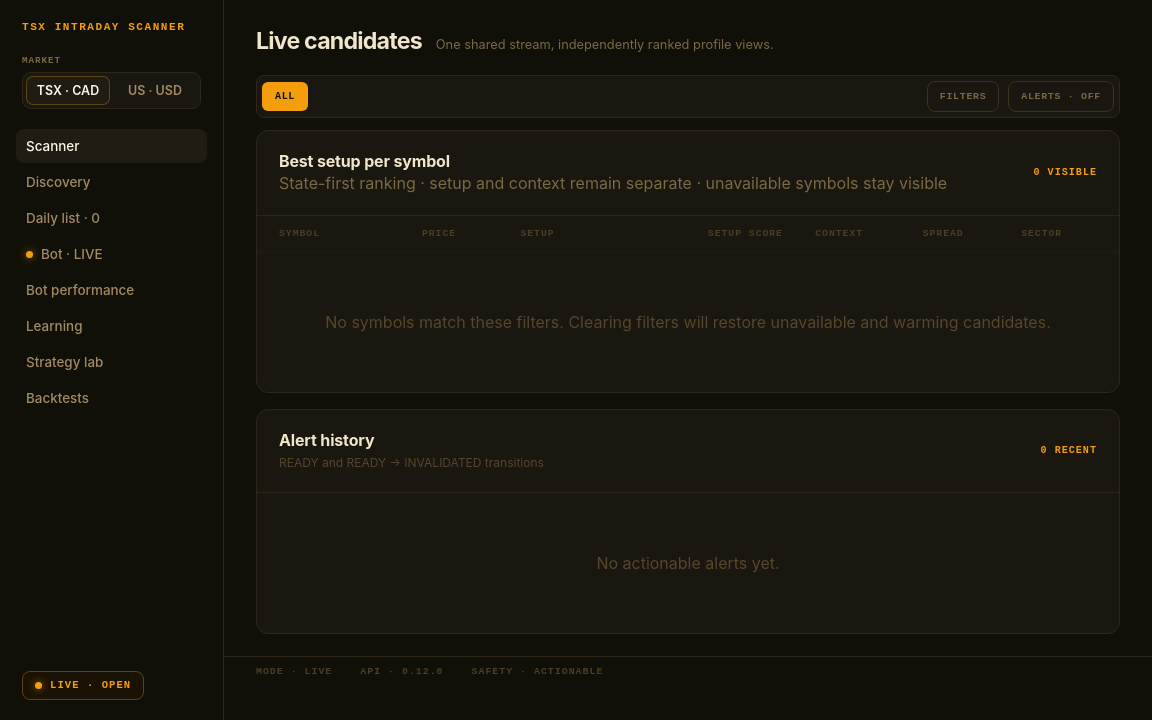
Test: App navigation status › shows a compact status pill whose popover separates freshness cues
Expected: the text "Scanning normally" is not shown
Click the button with aria-label "System status": [83, 686] box [22,671,144,700]
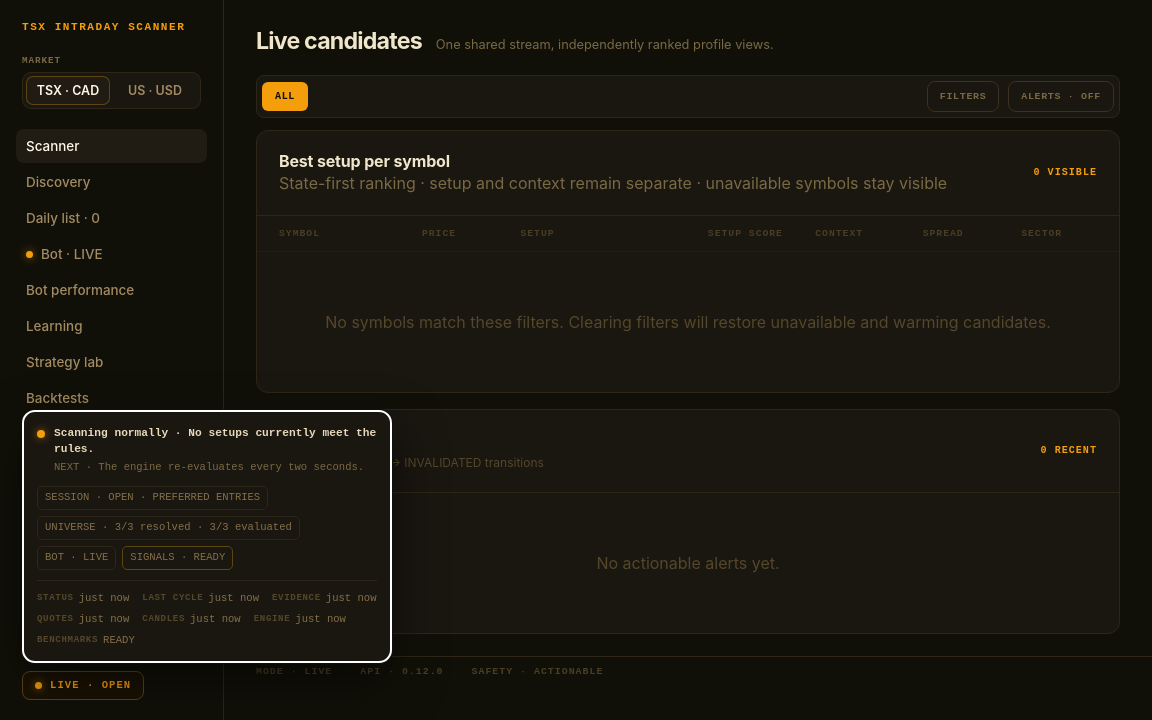
Now the text "Scanning normally · No setups currently meet the rules." is shown, box [54,425,377,458]
Now the text "STATUS" is shown, box [37,591,74,607]
Now the text "LAST CYCLE" is shown, box [142,591,203,607]
